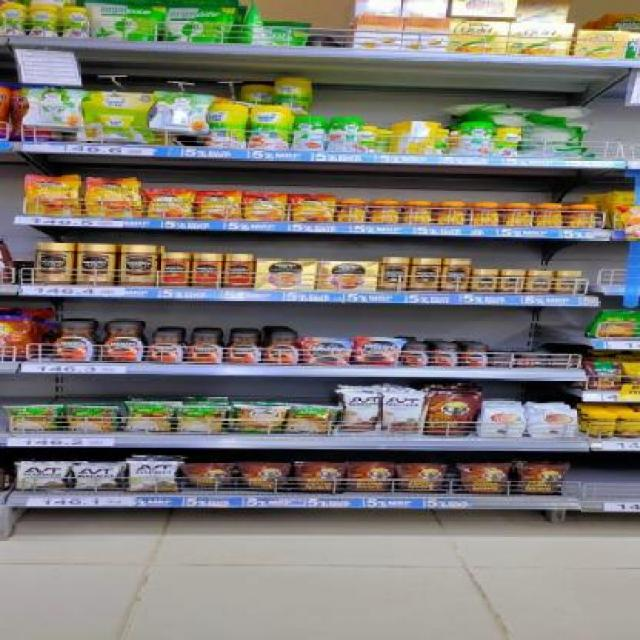Coffee: (25, 176, 80, 217), (86, 178, 140, 217), (101, 323, 144, 363), (56, 323, 96, 362), (118, 245, 156, 286), (78, 244, 115, 285), (36, 243, 72, 285), (356, 338, 401, 365), (302, 340, 350, 365), (150, 191, 193, 217), (188, 333, 222, 365), (245, 194, 286, 220), (149, 332, 183, 363), (228, 333, 262, 364), (198, 192, 237, 219), (294, 194, 334, 220), (380, 258, 408, 293), (412, 258, 439, 293), (266, 335, 297, 365), (442, 259, 468, 293), (402, 200, 433, 223), (568, 205, 598, 227), (505, 203, 533, 226), (338, 200, 367, 222), (537, 204, 563, 227), (554, 271, 580, 294), (401, 344, 427, 367), (371, 200, 397, 222), (437, 202, 463, 224), (473, 202, 499, 224), (432, 345, 458, 367), (461, 345, 488, 366), (500, 270, 524, 293), (474, 270, 497, 292), (528, 272, 550, 293), (549, 354, 577, 368), (518, 355, 544, 368), (491, 354, 514, 368)
